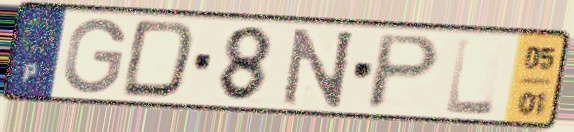8: (213, 23, 278, 105)
D: (117, 17, 199, 102)
G: (59, 16, 129, 96)
L: (443, 35, 498, 117)
N: (279, 25, 359, 109)
P: (361, 31, 445, 111)
